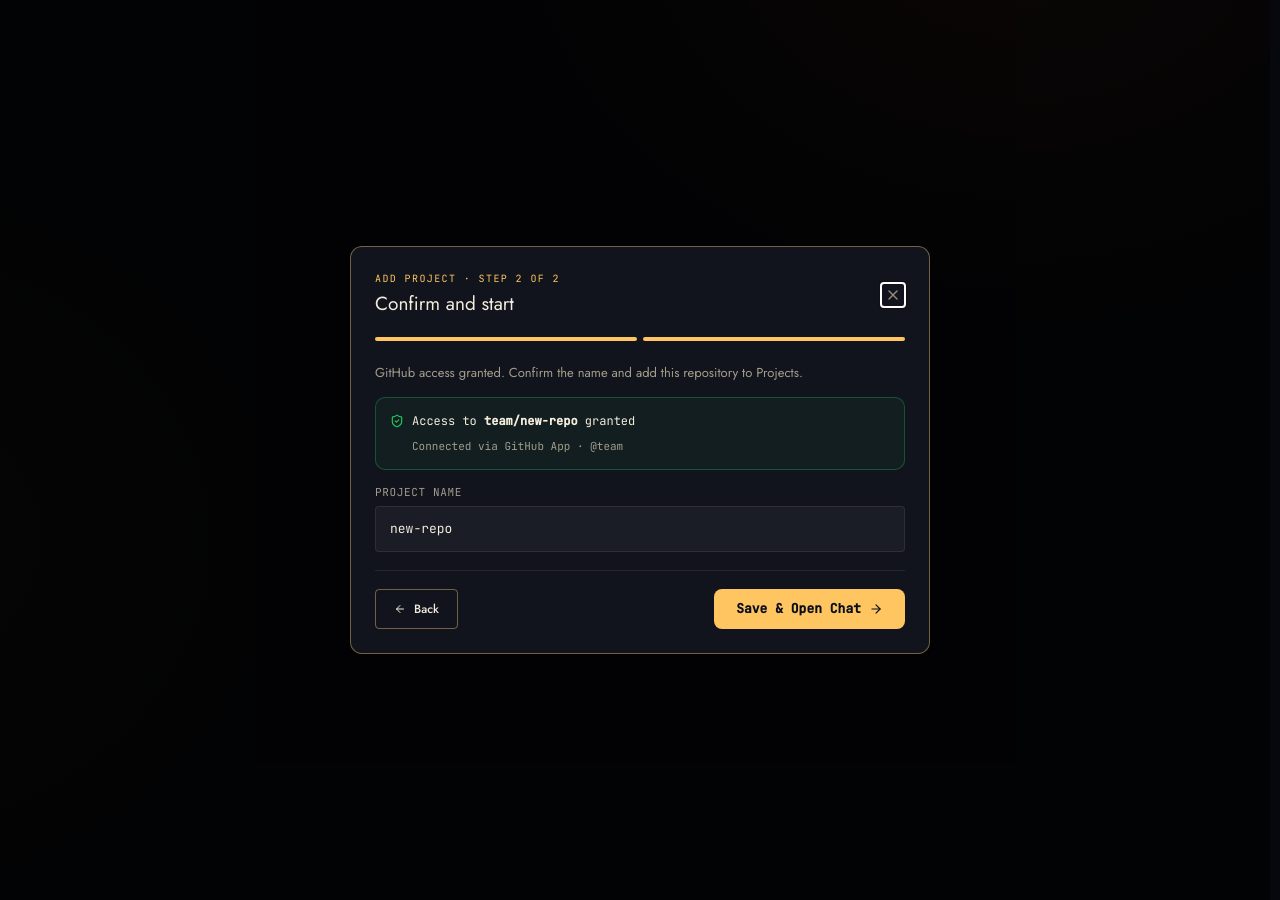
Add Project persistence handoff › does not report success if the server returns no project ID
Click the button with test id "wizard-save" at (810, 609), box [714,589,905,629]
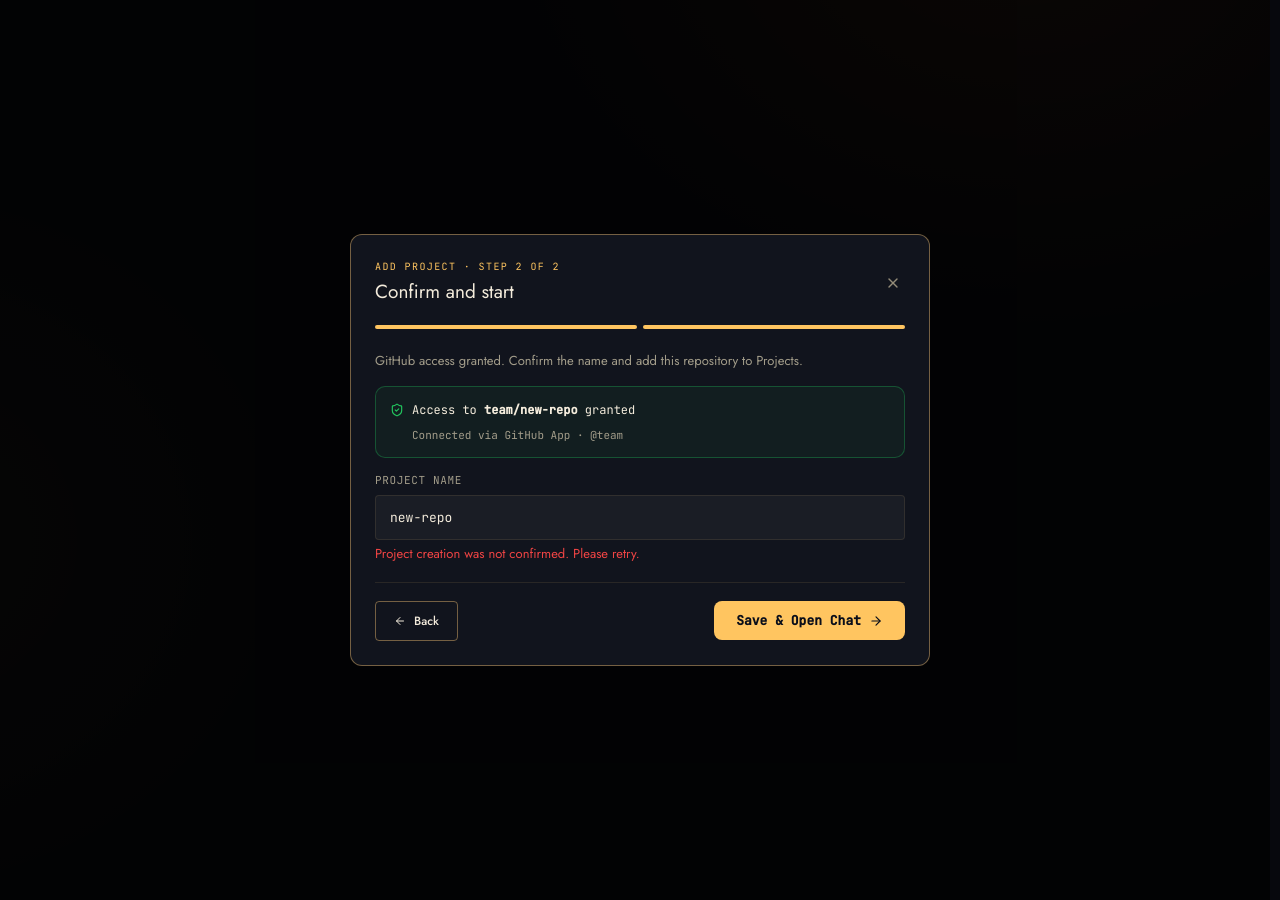
Result: the message with test id "add-wizard-save-error" shows "not confirmed" at [375,544,640,563]
